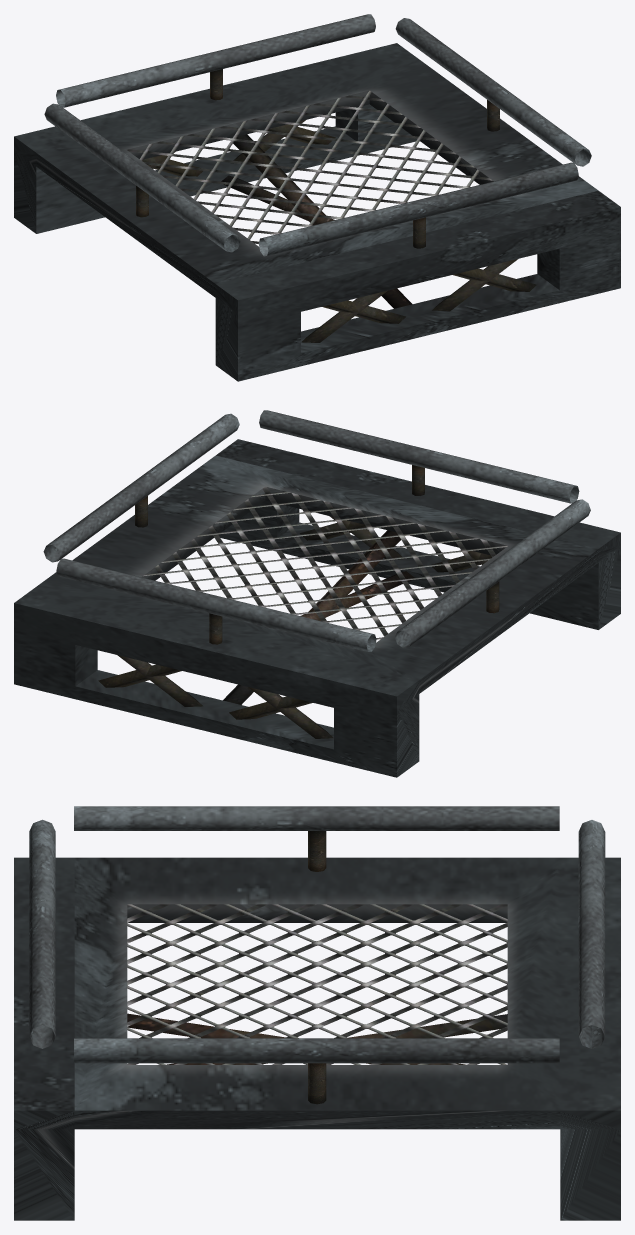
File: mainMenuFloor.fbx
3 renders of one model, top to bottom at view 1: azimuth 30°, elevation 25°; view 2: azimuth 150°, elevation 25°; view 3: azimuth 270°, elevation 25°, orthographic. The views are drawn at different scales.
Parts seen in each view (by area): view 1: polySurface37; view 2: polySurface37; view 3: polySurface37.
Part boxes in pixels (bbox=[...]): polySurface37: bbox=[14, 14, 620, 381]; polySurface37: bbox=[14, 410, 620, 777]; polySurface37: bbox=[14, 806, 620, 1220].
Size of the model in its own units: 4.33 by 1.37 by 4.39.
1 material, 1 textured.
